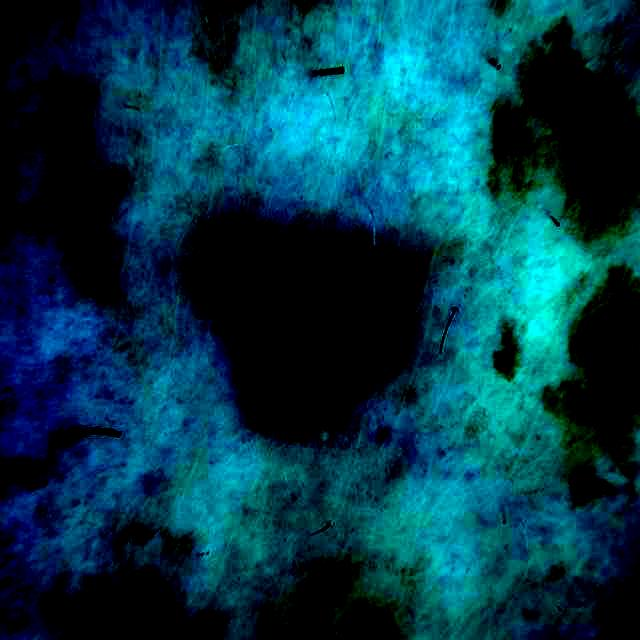BKL: (196, 228, 415, 436), (491, 21, 640, 244), (544, 267, 640, 505), (38, 82, 122, 297), (495, 323, 519, 380)
